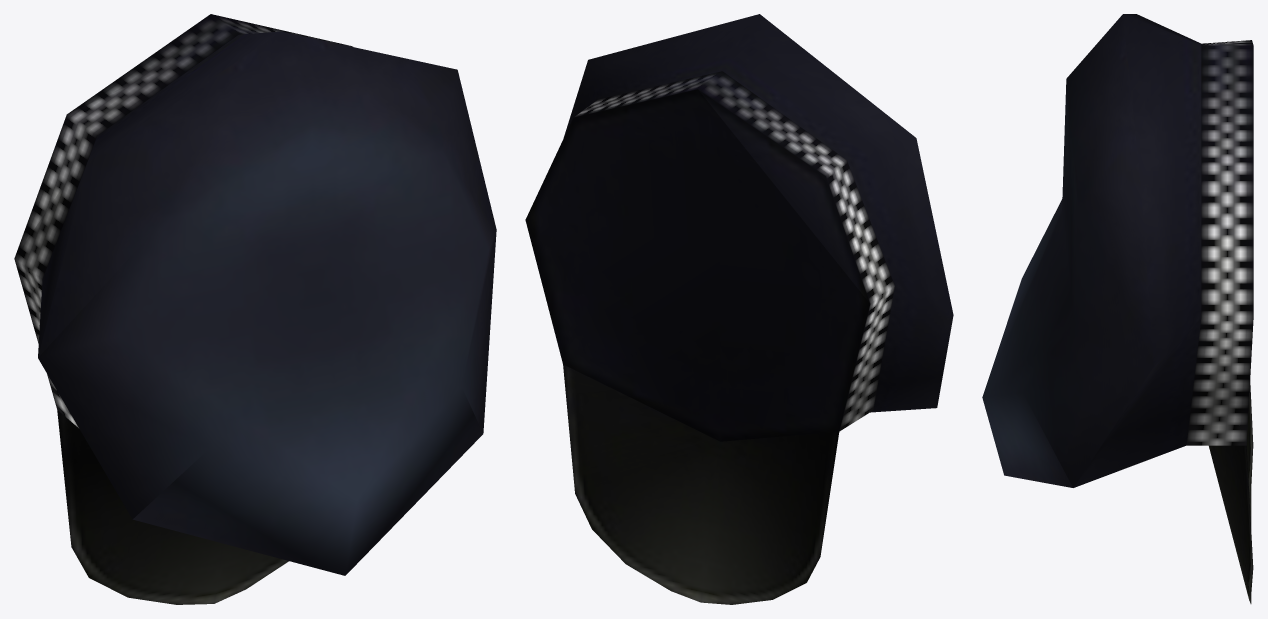
File: tt_m_chr_avt_acc_hat_policeHat.glb
3 views of the same model, side by side, from view 1: azimuth 30°, elevation 25°; view 2: azimuth 150°, elevation 25°; view 3: azimuth 270°, elevation 25° (orthographic). The views are drawn at different scales.
Parts seen in each view (by area): view 1: policeHat; view 2: policeHat; view 3: policeHat.
Part boxes in pixels (x1,y1,x2,y2): policeHat: (14, 14, 496, 604); policeHat: (525, 14, 953, 604); policeHat: (982, 14, 1253, 603).
Bounding box in the file's own units: 3.12 × 3.99 × 1.7.
Materials: 1 (1 with a texture image).
